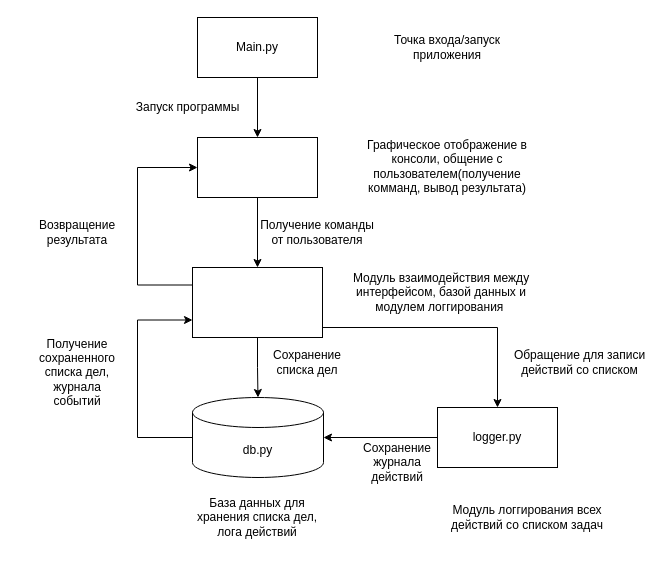
Image size: 664x565. Some labels were removed from this diagram. The box of each missing label's shape, as (x1, y1, x2, y2) in pixels:
controller.py: (192, 266, 322, 338)
interface.py: (196, 136, 318, 198)
